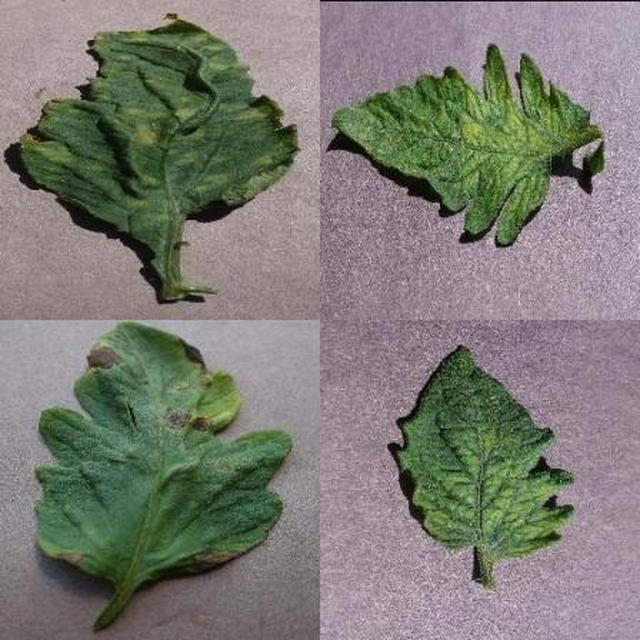Leaf Mold: (231, 177, 640, 640)
